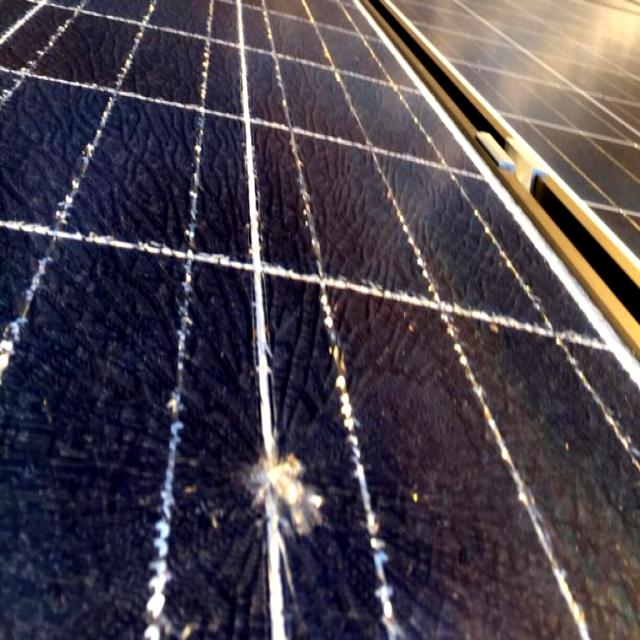hotspot: (205, 433, 352, 581)
